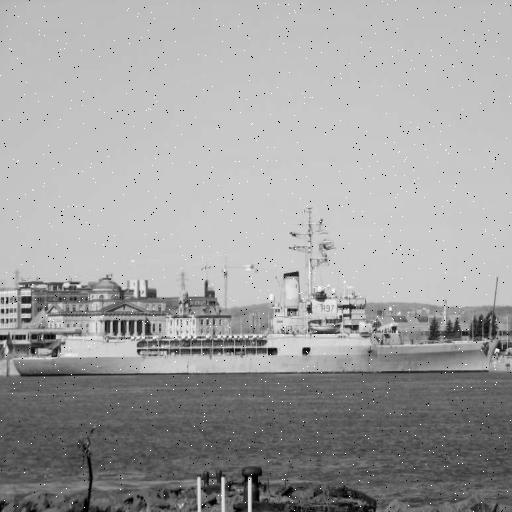Portanaves: (10, 205, 501, 381)
